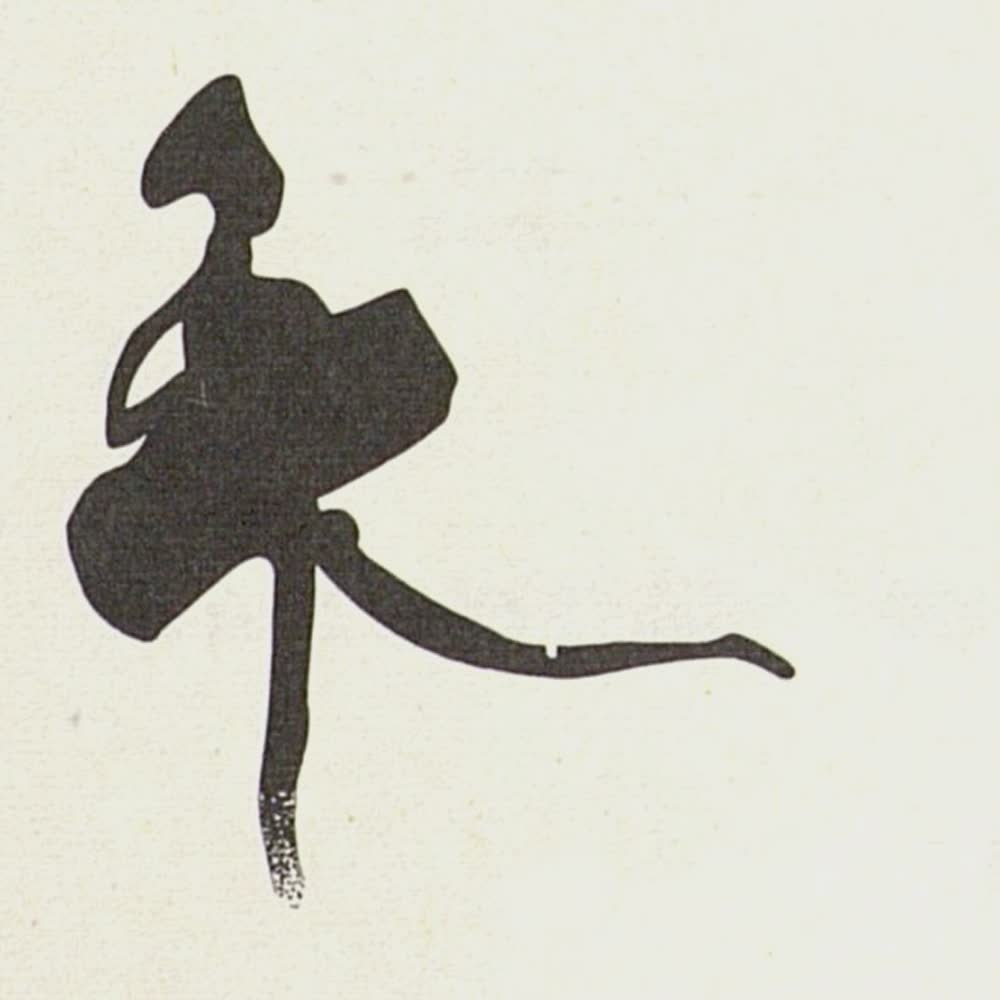woman: (64, 72, 801, 914)
